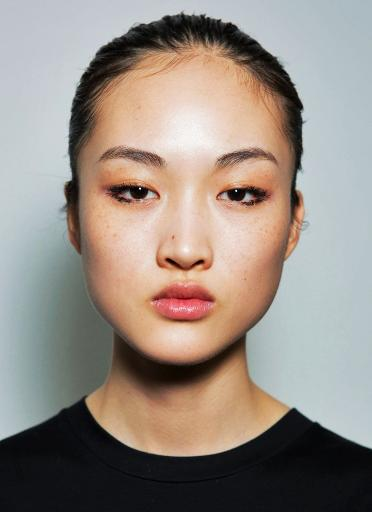left_eye: (214, 186, 271, 212)
left_lip_corner: (209, 294, 221, 311)
right_eye: (107, 184, 163, 210)
right_lip_corner: (146, 294, 159, 314)
